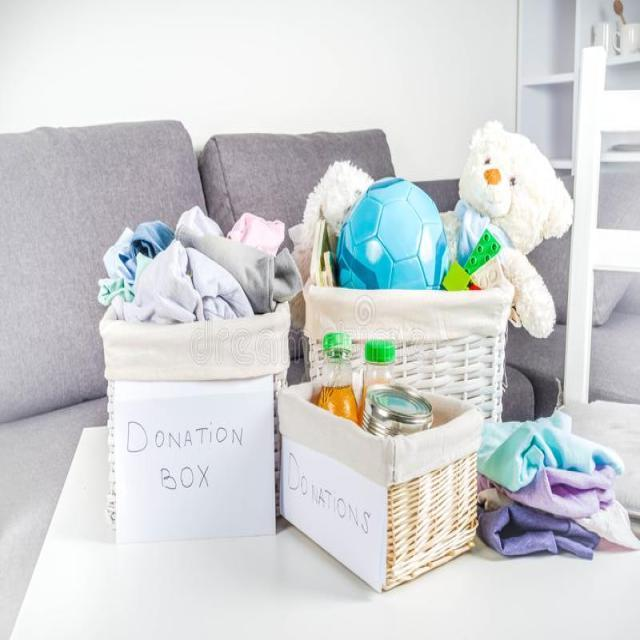clothes: (496, 432, 626, 568), (112, 237, 268, 313)
